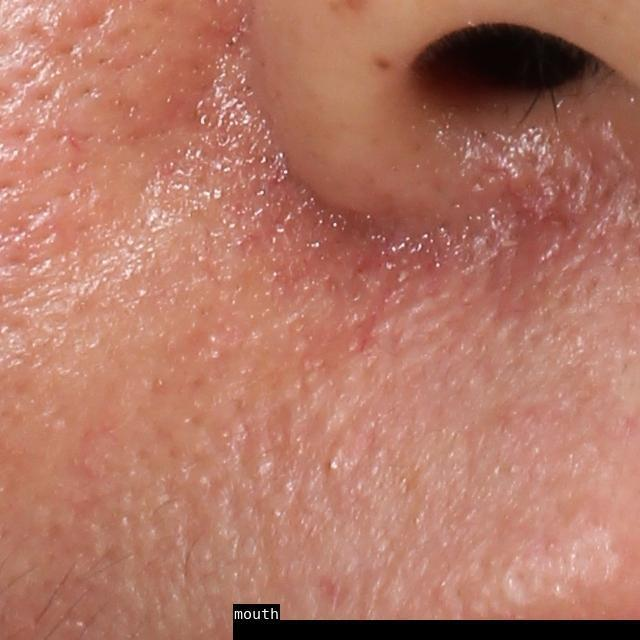atrophic_scar: (472, 175, 586, 281)
comedo: (320, 453, 346, 478)
